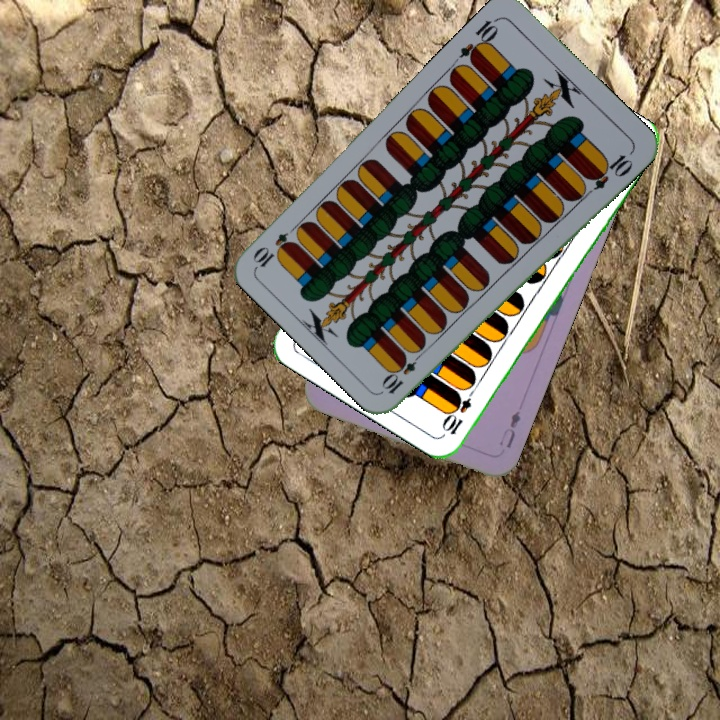E10: (455, 14, 502, 66), (379, 346, 426, 397), (439, 382, 479, 438)
EU: (495, 407, 523, 451)
